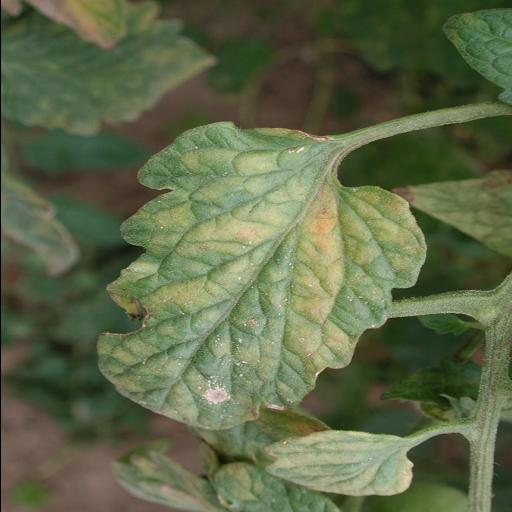Leaf Mold: (96, 120, 426, 430), (262, 429, 414, 498)
